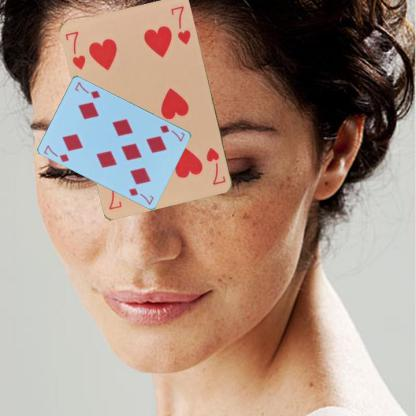7d: (42, 142, 70, 164), (157, 122, 187, 142)
7h: (203, 145, 228, 187), (63, 29, 87, 72)
